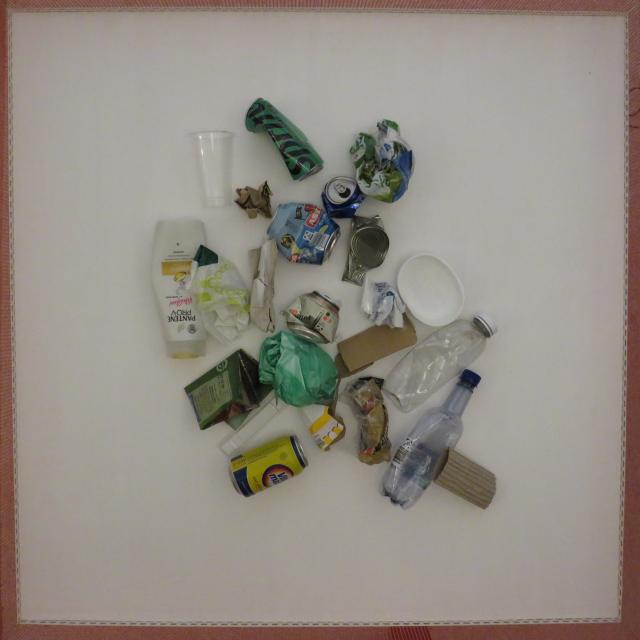cardboard: (335, 313, 417, 378), (434, 449, 496, 509), (298, 376, 346, 451), (248, 240, 277, 332), (235, 181, 272, 218)
hard_plastic: (379, 369, 480, 509), (383, 314, 497, 413), (152, 219, 206, 359), (217, 390, 289, 460), (398, 253, 464, 326), (188, 131, 234, 207)
metal: (245, 98, 323, 181), (229, 435, 308, 497), (267, 202, 340, 265), (342, 215, 389, 285), (281, 290, 339, 344), (321, 176, 365, 218)
soft_plastic: (185, 349, 272, 429), (185, 245, 249, 345), (259, 331, 338, 407), (350, 120, 414, 203), (339, 377, 391, 465), (361, 276, 405, 328)
